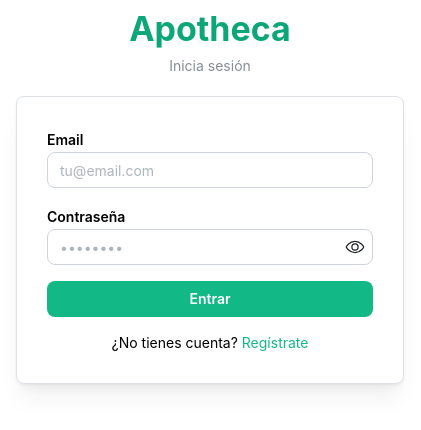
Test case: AuthPage › shows validation error for invalid email
In the field with placeholder "tu@email.com": (210, 170) [47,152,373,188], type "not-an-email"
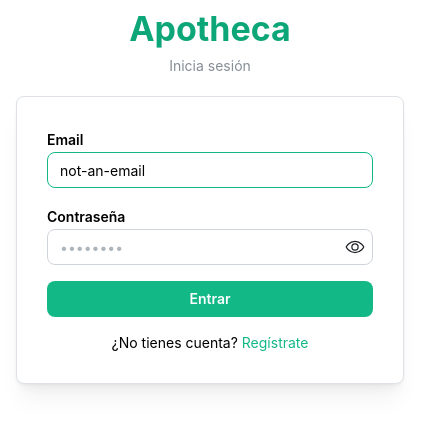
In the password field with placeholder "••••••••": (210, 247) [48,230,372,264], type "password123"
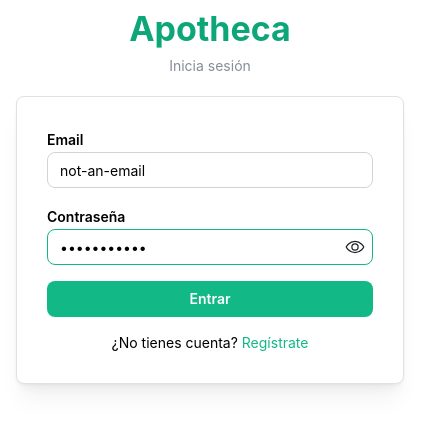
Click the button "Entrar": click(210, 299) [47,281,373,317]
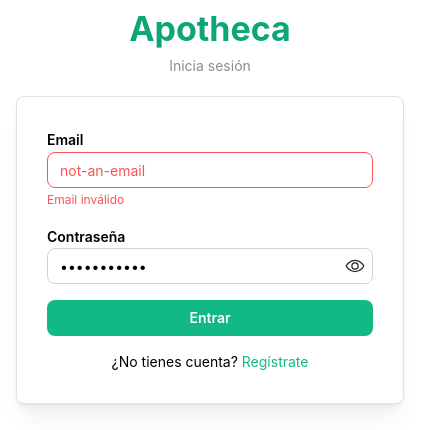
Expected: the text "Email inválido" is shown, [47,192,124,207]
